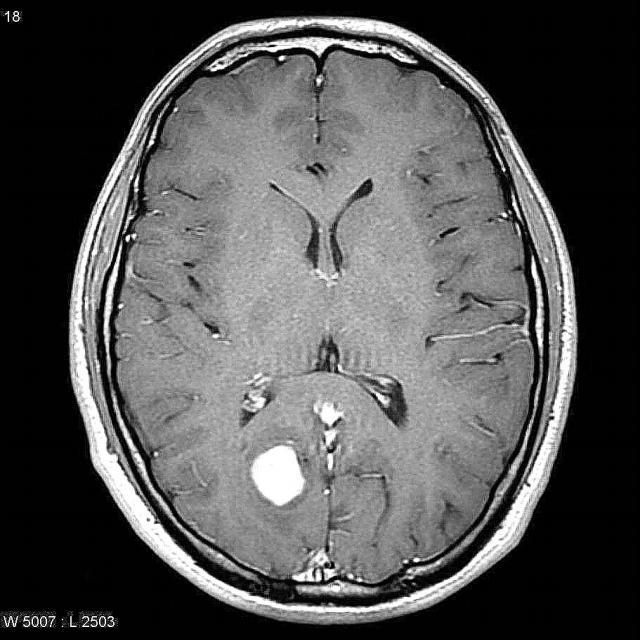Tumor: (247, 441, 312, 514)
